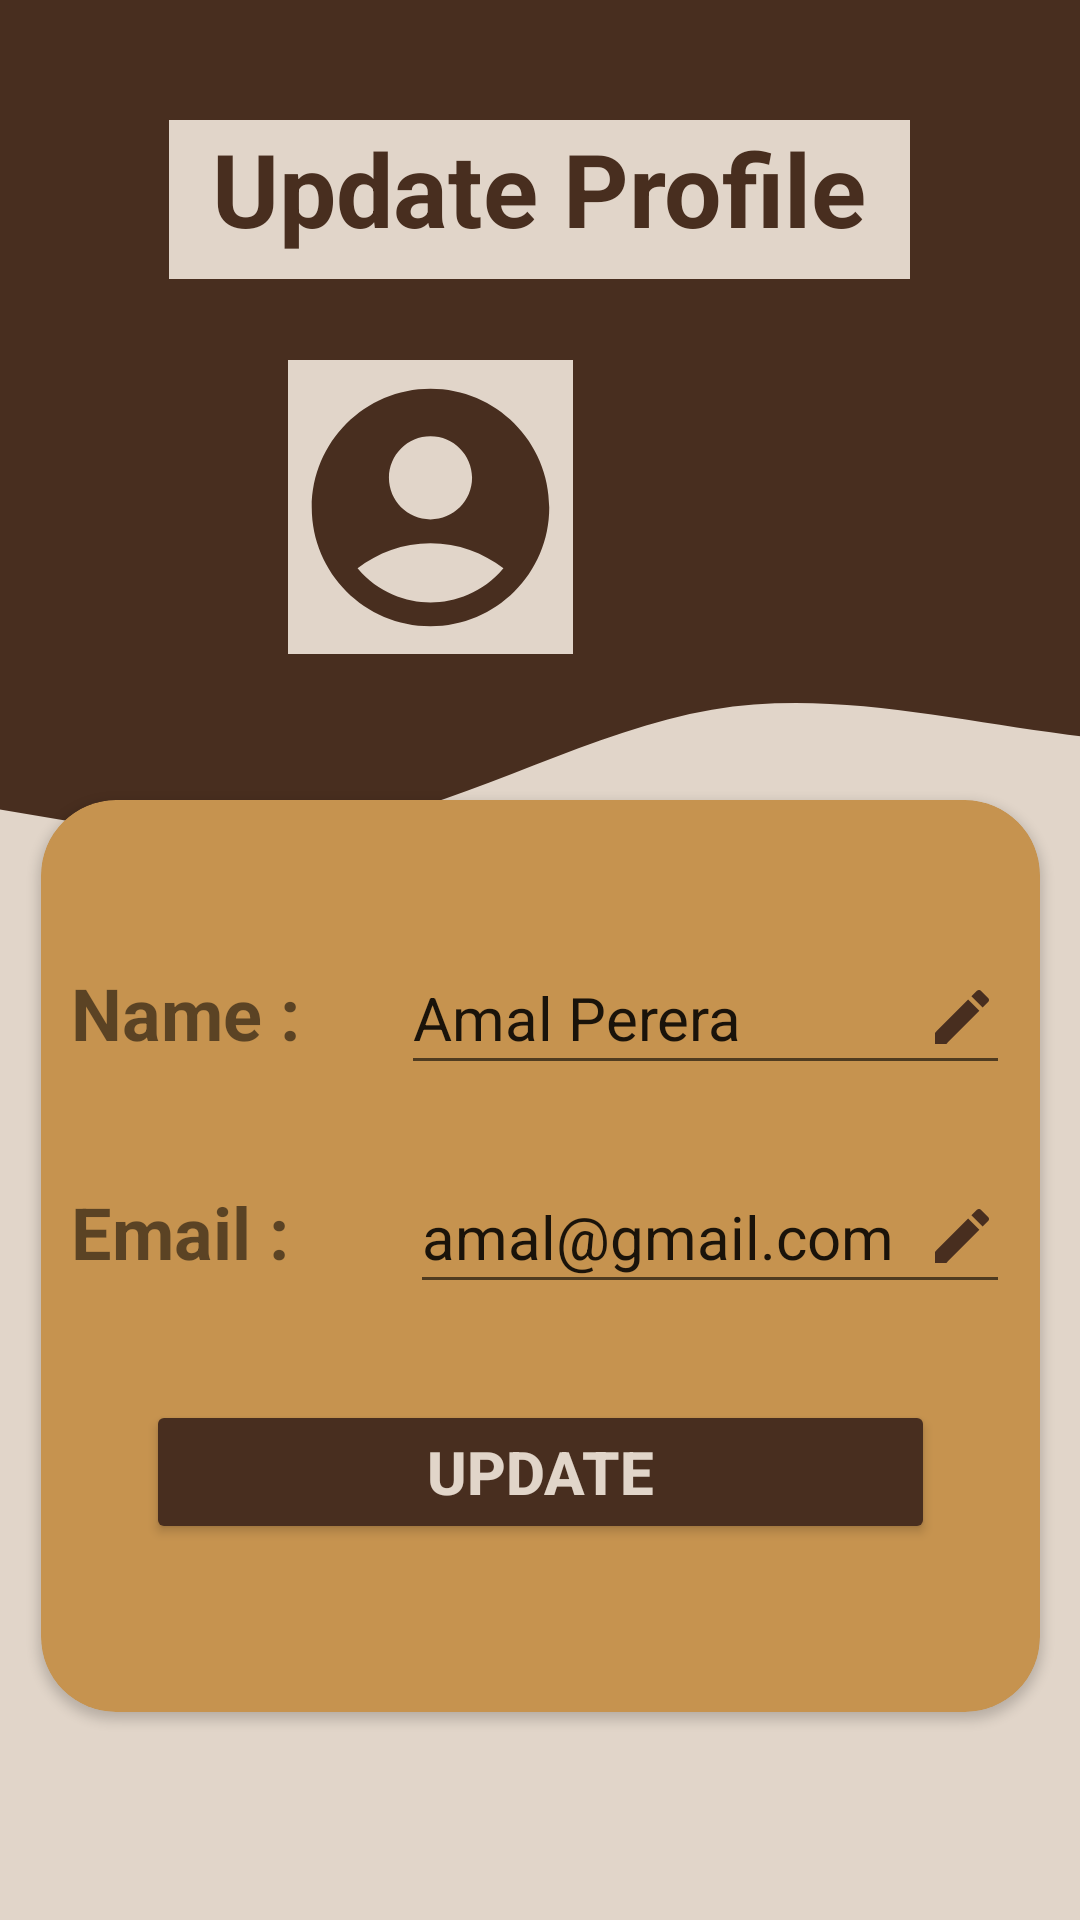

Icon click points for this 1080 x 1920 phone screenshot, format (x,y):
account circle: (430,507)
